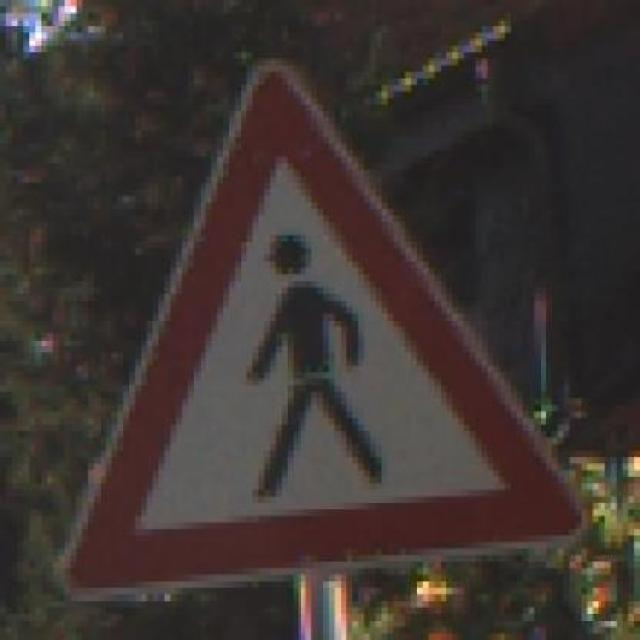Pedestrian Crossing: (41, 63, 587, 592)
